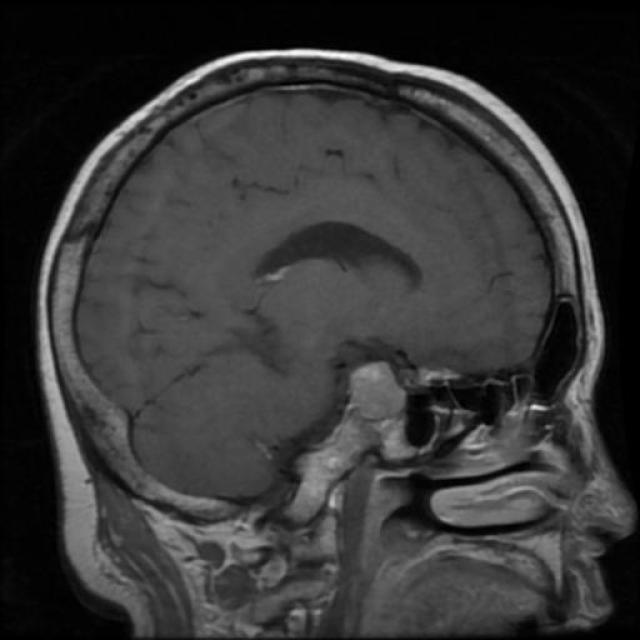pituitary: (286, 364, 412, 514)
